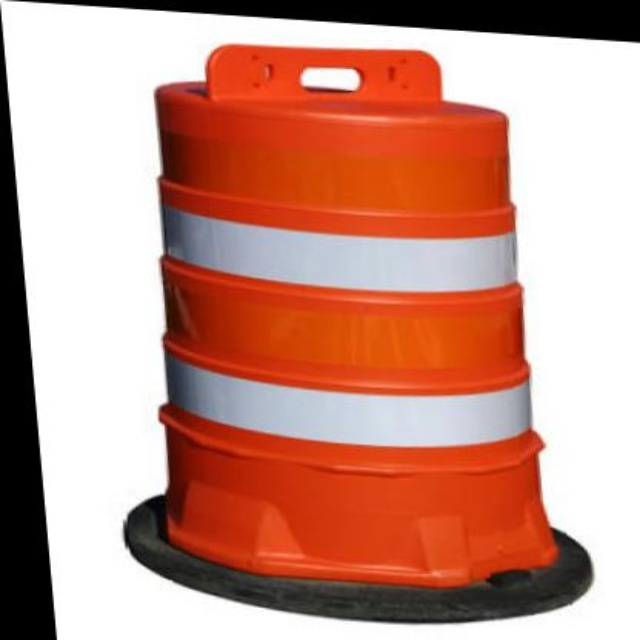obstacle: (98, 37, 552, 601)
